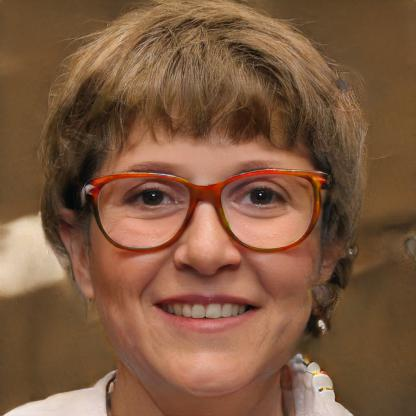glasses: (86, 167, 329, 256)
